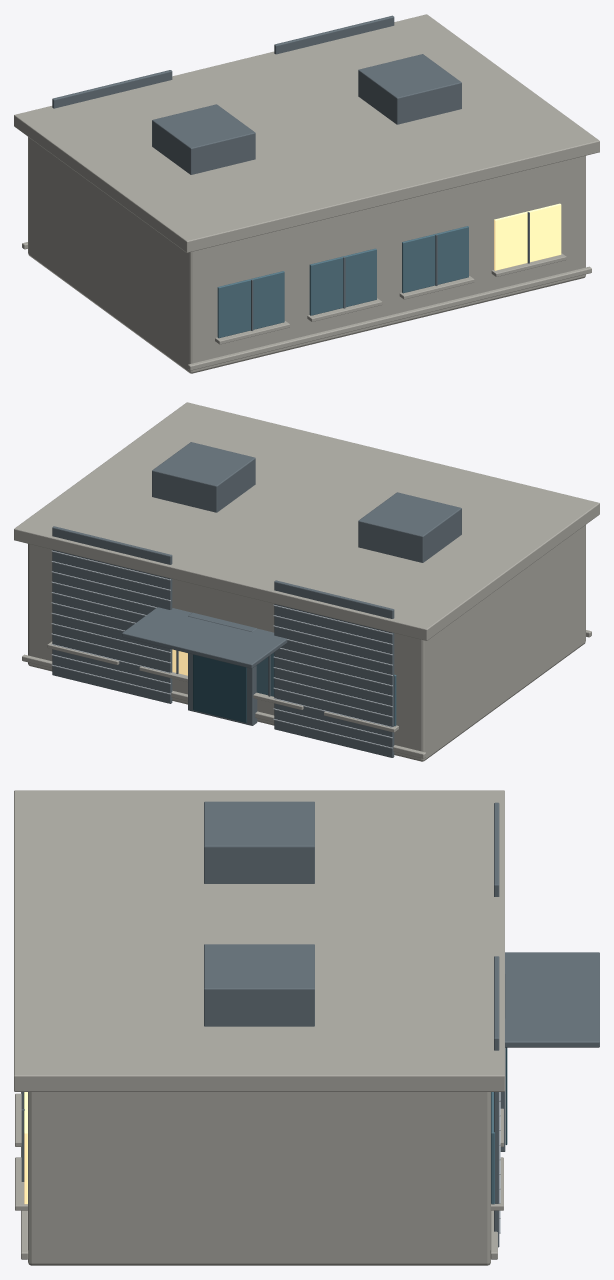
File: Storefront.fbx
3 views of the same model, one above another, from view 1: azimuth 30°, elevation 25°; view 2: azimuth 150°, elevation 25°; view 3: azimuth 270°, elevation 25° (orthographic). The views are drawn at different scales.
Parts seen in each view (by area): view 1: Body.038; view 2: Body.038; view 3: Body.038.
Part boxes in pixels (x1,y1,x2,y2): Body.038: (14, 14, 599, 373); Body.038: (14, 402, 599, 761); Body.038: (14, 790, 599, 1265).
Bounding box in the file's own units: 14.6 × 5.6 × 12.65.
